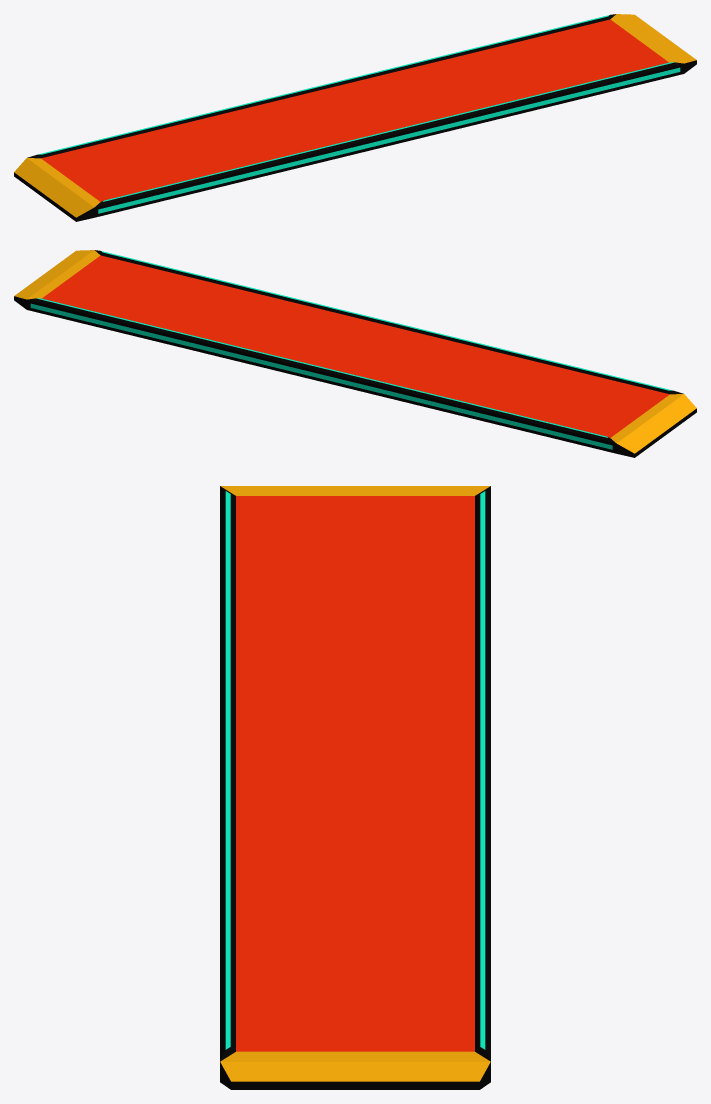
Rendered from Platform To Second Level.FBX.
The picture shows the model from 3 angles, top to bottom: view 1: azimuth 30°, elevation 25°; view 2: azimuth 150°, elevation 25°; view 3: azimuth 270°, elevation 25°; orthographic projection. The views are drawn at different scales.
Visible parts, largest first — view 1: Platform to second Level; view 2: Platform to second Level; view 3: Platform to second Level.
Part boxes in pixels (left/top/right/bottom): Platform to second Level: left=14, top=14, right=696, bottom=221; Platform to second Level: left=14, top=250, right=696, bottom=457; Platform to second Level: left=220, top=486, right=490, bottom=1089.
Size of the model in its own units: 23.33 by 0.5306 by 4.41.
